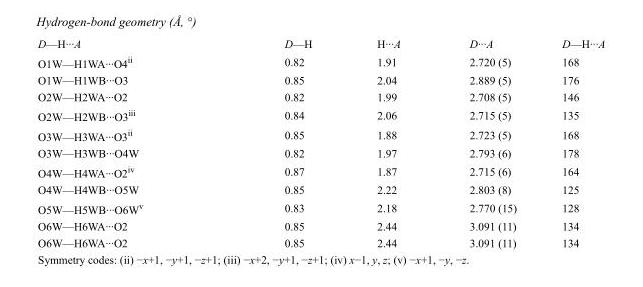table: (37, 36, 604, 248)
table column: (37, 36, 213, 248), (213, 36, 343, 248), (434, 36, 538, 248), (343, 36, 434, 248), (538, 36, 604, 248)
table row: (37, 51, 604, 71), (37, 104, 604, 124), (37, 124, 604, 144), (37, 197, 604, 217), (37, 161, 604, 180), (37, 71, 604, 88), (37, 144, 604, 161), (37, 180, 604, 197), (37, 217, 604, 234), (37, 88, 604, 104), (37, 36, 604, 51), (37, 234, 604, 248)
